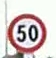limite 50: (7, 13, 46, 53)
